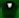black: (0, 0, 19, 18)
